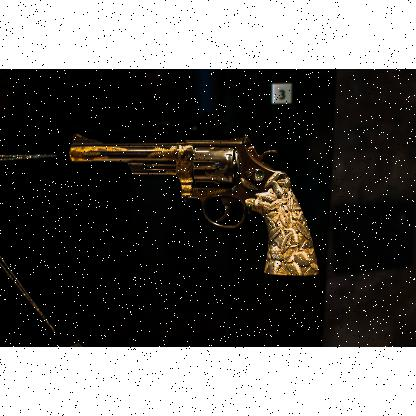gun: (70, 132, 318, 274)
